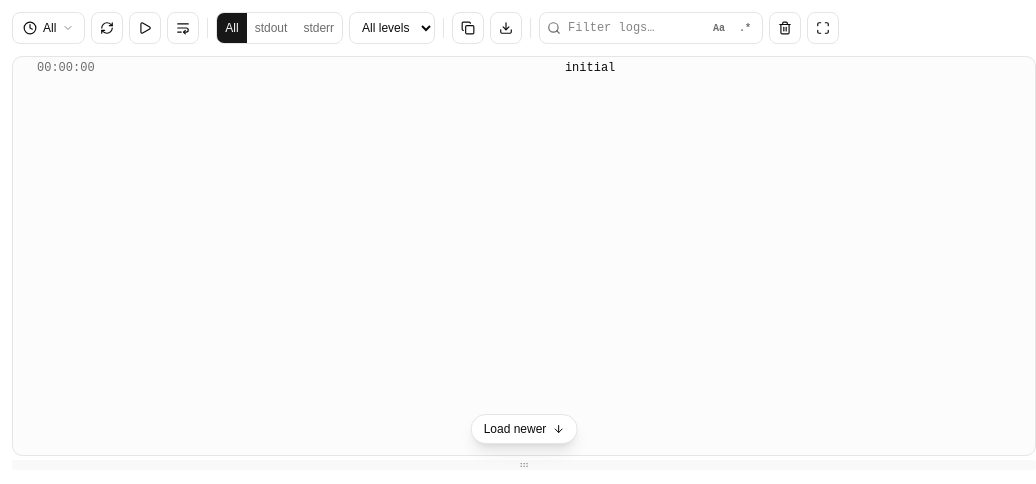
Scenario: LogViewer live tail resilience › keeps the tail live and shows a reconnecting indicator while waiting to retry
Click the button titled "Live tail". click: point(145, 28)
box: [129,12,161,44]
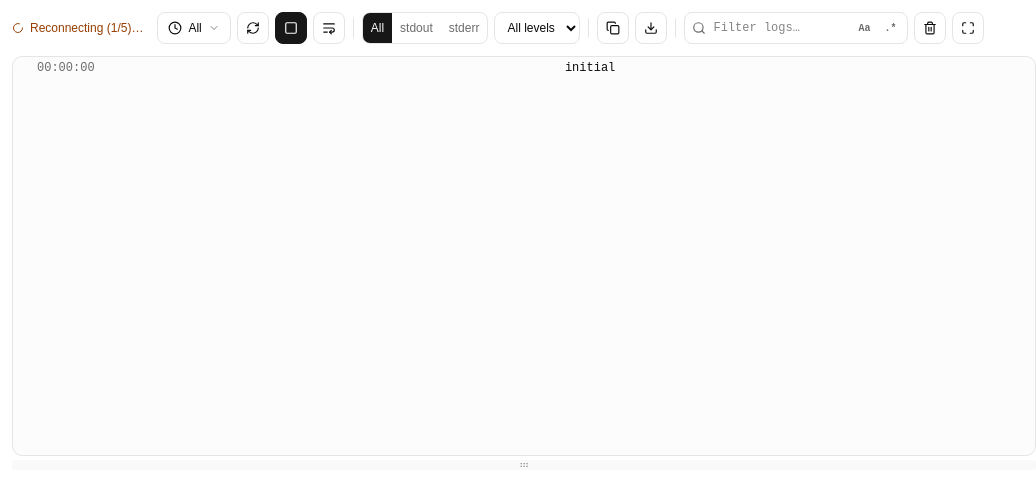
Check: the text "Reconnecting (1/5)…" is shown, box [30,20,143,36]
